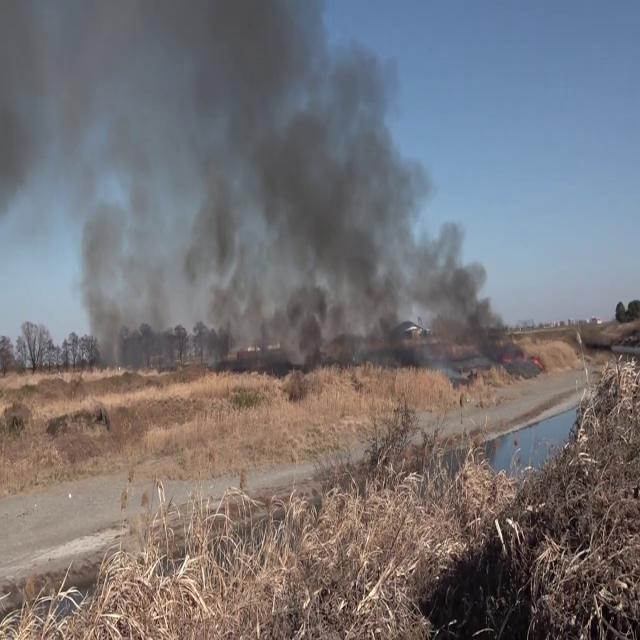Smoke: (1, 0, 505, 364)
